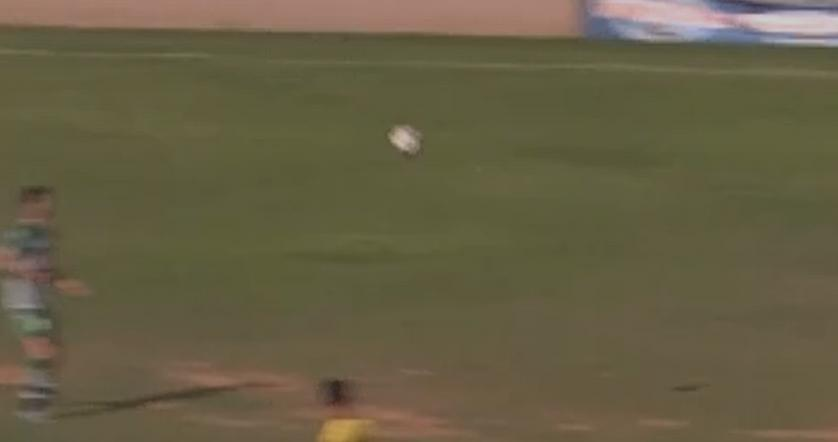ball: (371, 112, 443, 173)
